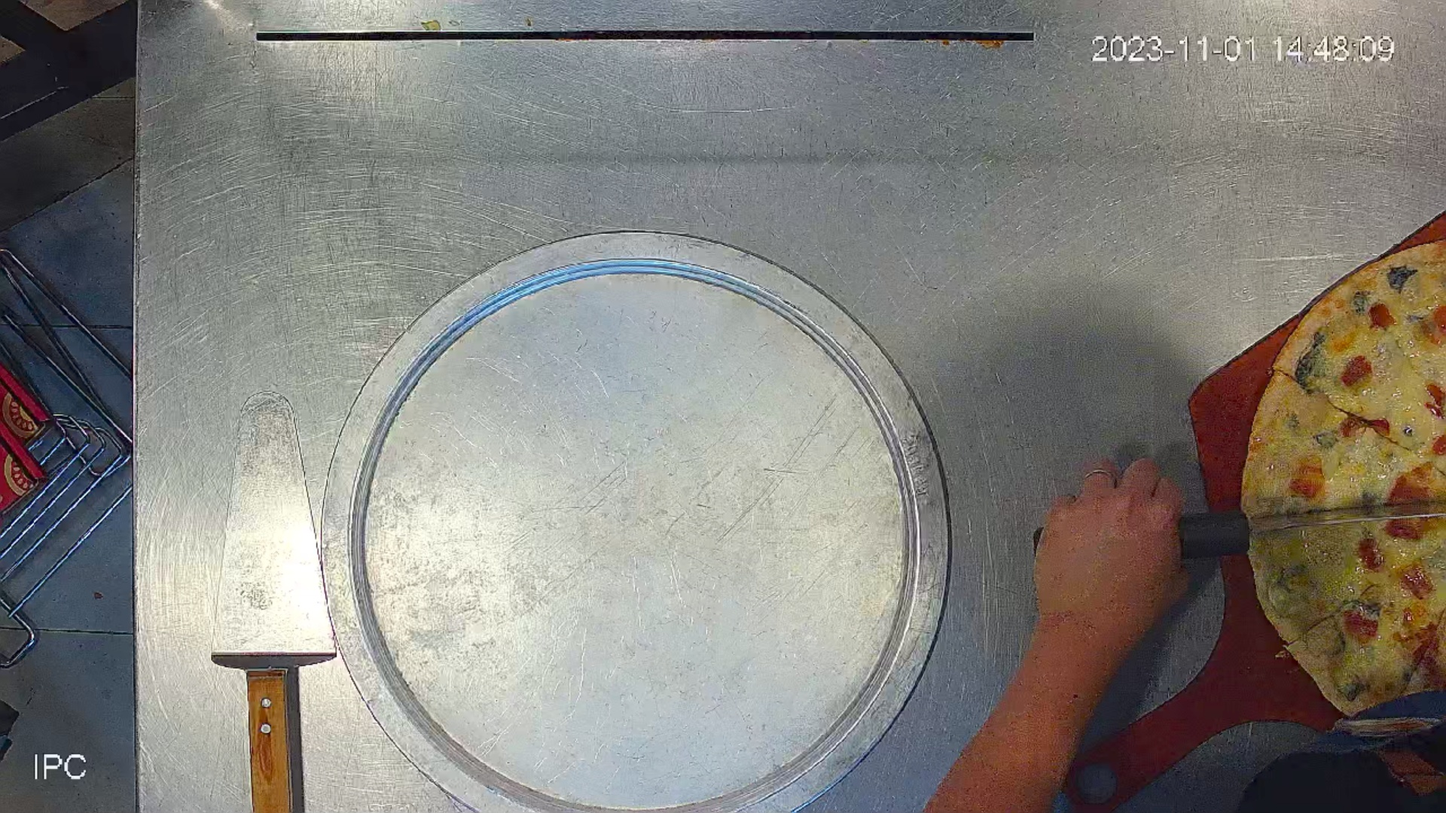pepporoni: (1242, 237, 1446, 720)
